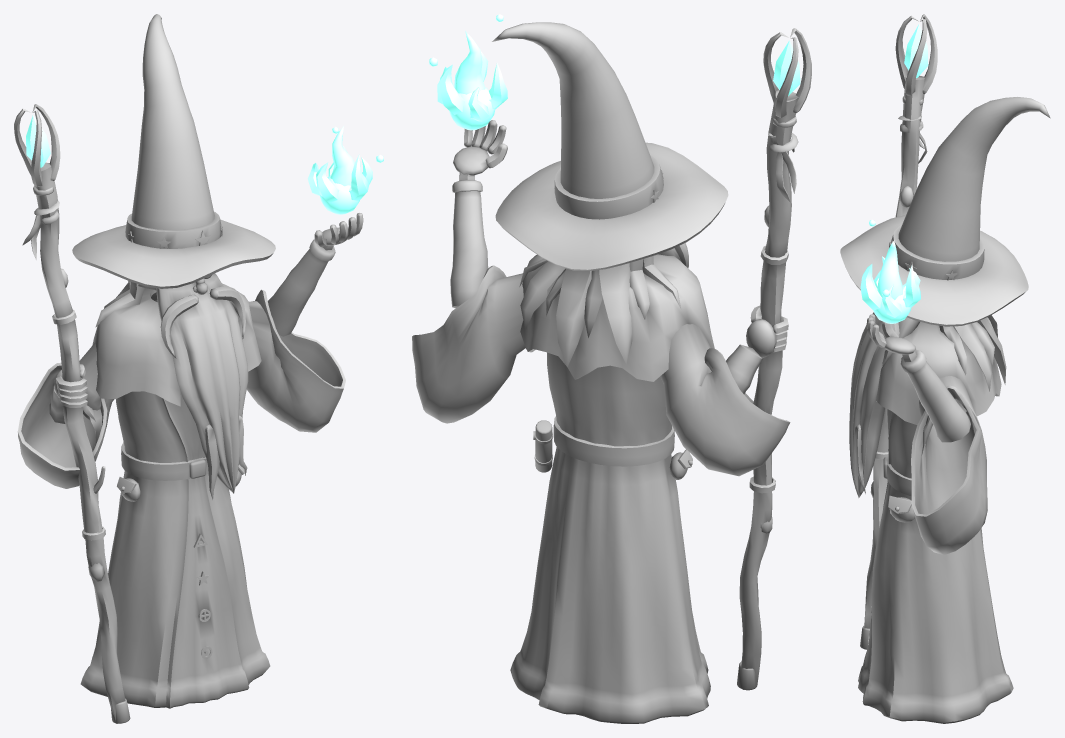
File: wizard.glb
3 renders of one model, left to right at view 1: azimuth 30°, elevation 25°; view 2: azimuth 150°, elevation 25°; view 3: azimuth 270°, elevation 25°, orthographic. The views are drawn at different scales.
Visible parts, largest first — view 1: Wizard; view 2: Wizard; view 3: Wizard.
Part boxes in pixels (x1,y1,x2,y2): Wizard: [14, 14, 383, 723]; Wizard: [412, 14, 811, 723]; Wizard: [840, 14, 1050, 723].
Bounding box in the file's own units: 0.8145 × 1.38 × 0.4346.
